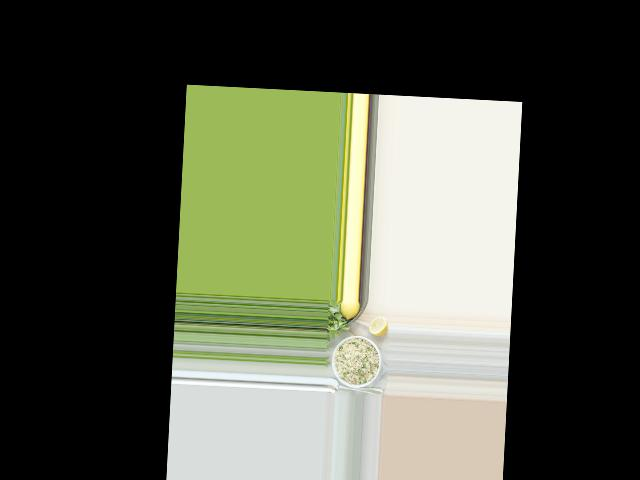lemon: (340, 300, 357, 318)
